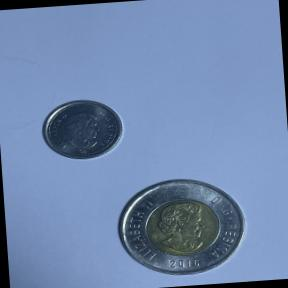coin: (104, 166, 254, 286), (33, 92, 130, 168)
